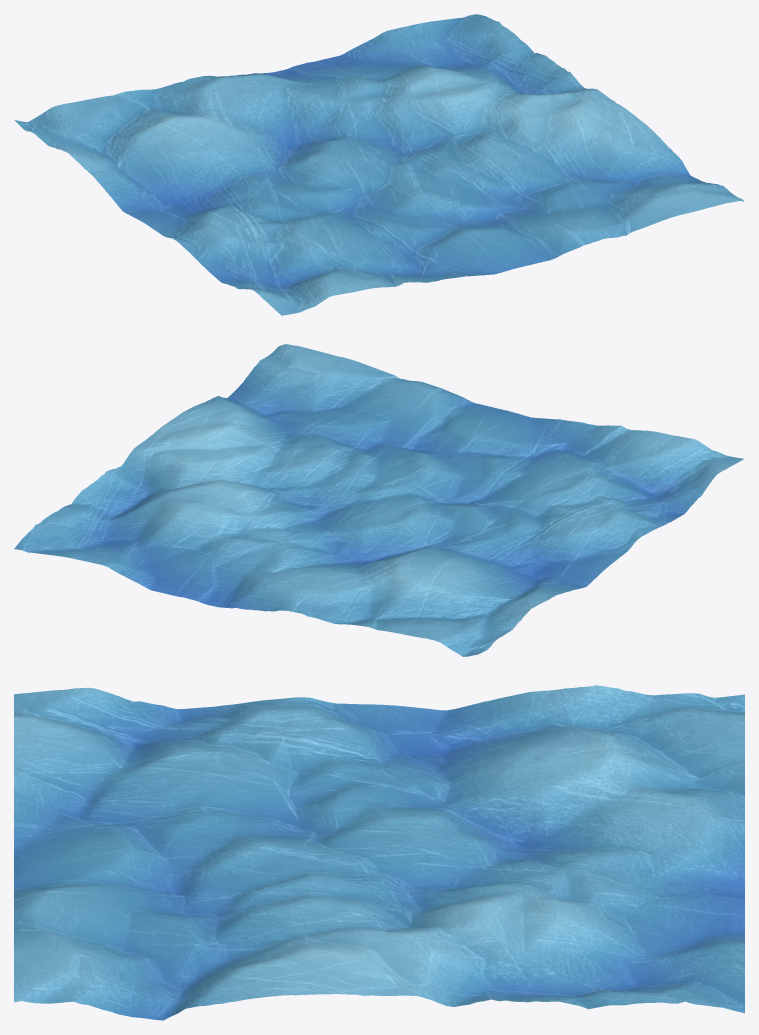
The model's file is ice.fbx.
3 renders of one model, top to bottom at view 1: azimuth 30°, elevation 25°; view 2: azimuth 150°, elevation 25°; view 3: azimuth 270°, elevation 25°, orthographic. The views are drawn at different scales.
Parts seen in each view (by area): view 1: Plane; view 2: Plane; view 3: Plane.
Part boxes in pixels (left/top/right/bottom): Plane: left=14, top=14, right=744, bottom=315; Plane: left=14, top=344, right=743, bottom=656; Plane: left=14, top=685, right=744, bottom=1020.
Size of the model in its own units: 980 by 59.57 by 980.
